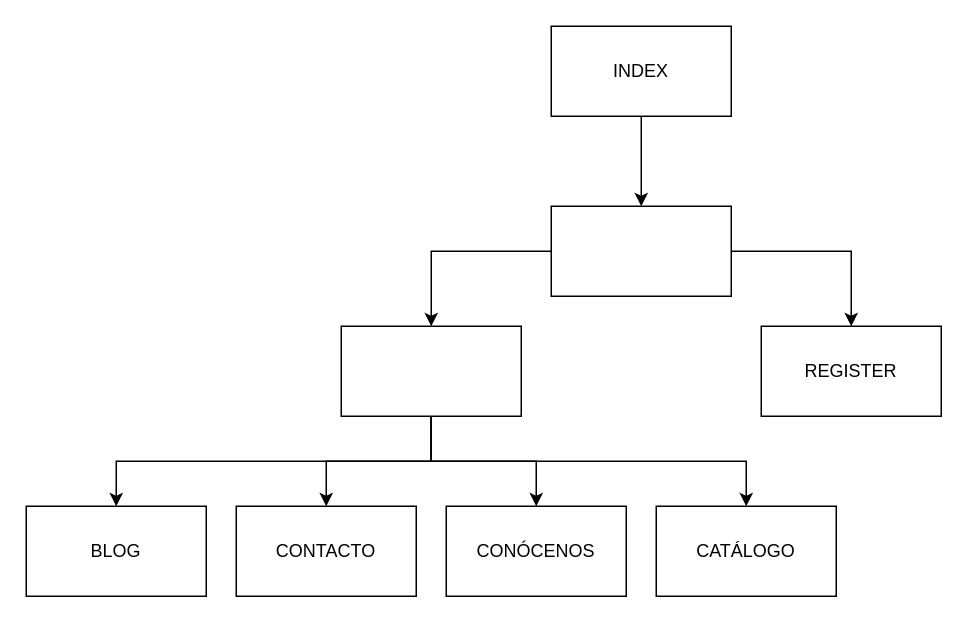
Image size: 968x623. Some labels were removed from this diagram. Each missing label, with the centre of its shape:
INICIO: (640,250)
LOGIN: (430,370)
